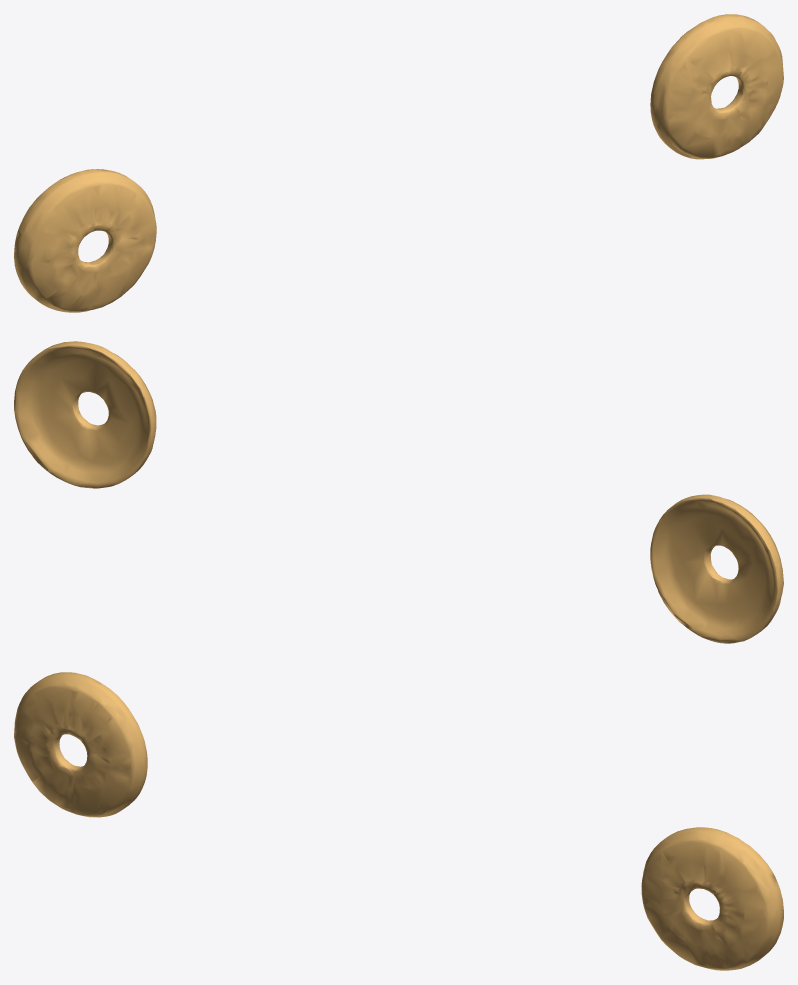
The model's file is iris.glb.
The picture shows the model from 3 angles, top to bottom: view 1: azimuth 30°, elevation 25°; view 2: azimuth 150°, elevation 25°; view 3: azimuth 330°, elevation 25°; orthographic projection.
Parts seen in each view (by area): view 1: iris; view 2: iris; view 3: iris.
Part boxes in pixels (box(x1,y1,x2,y2)): iris: box(14, 14, 783, 312); iris: box(14, 341, 783, 643); iris: box(14, 672, 783, 970).
Bounding box in the file's own units: 0.0737 × 0.0129 × 0.00308.
